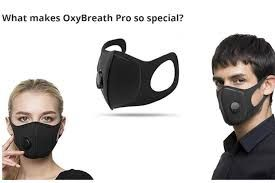with-mask: (209, 54, 275, 131), (4, 93, 72, 162)
